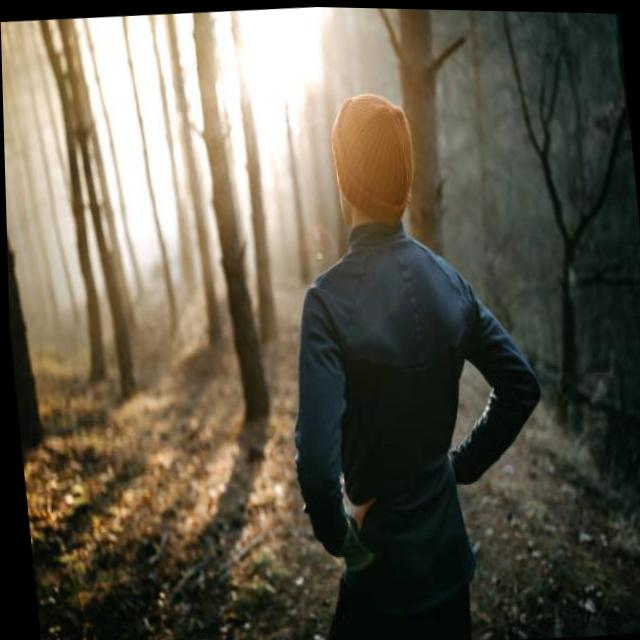no helmet: (313, 72, 445, 256)
